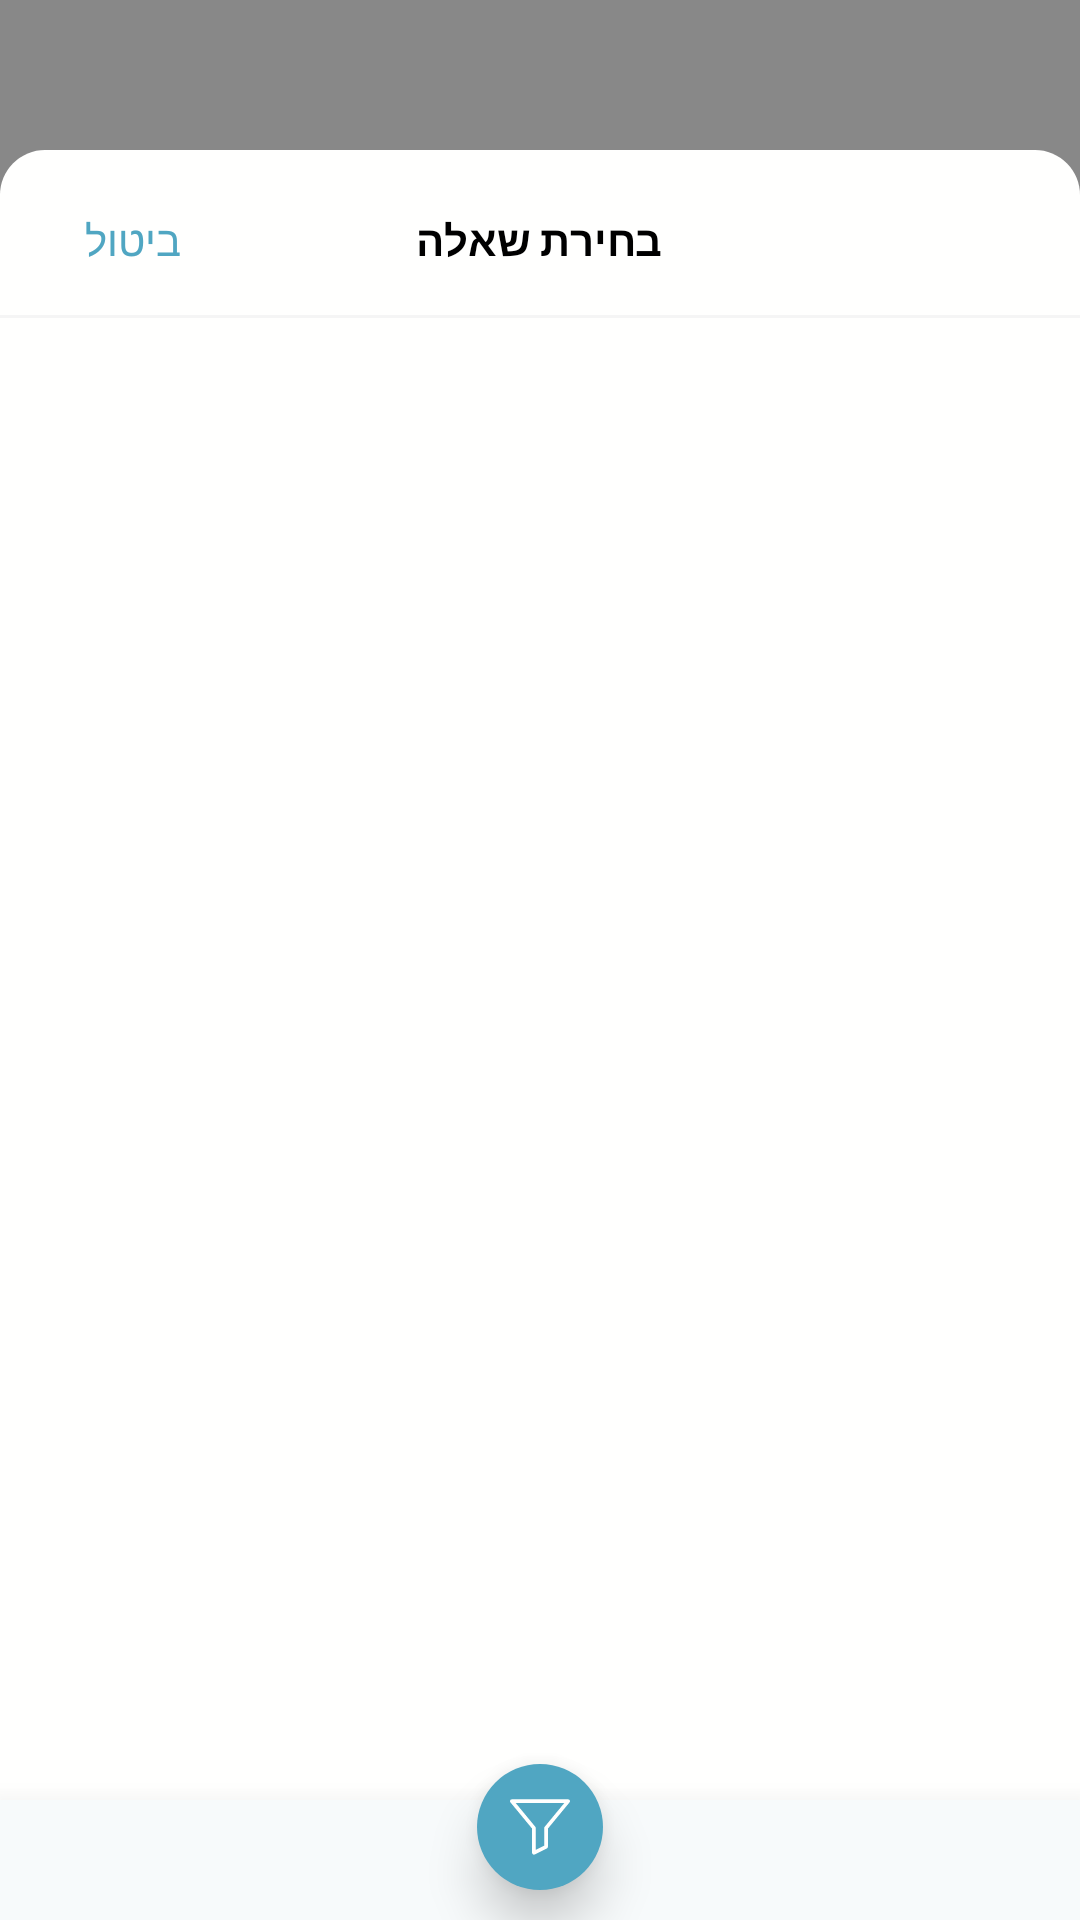

Icons on this 1080px×1920px Android screen, each with its box as (x1, y1, x2, y2):
filter: (477, 1764, 603, 1890)
